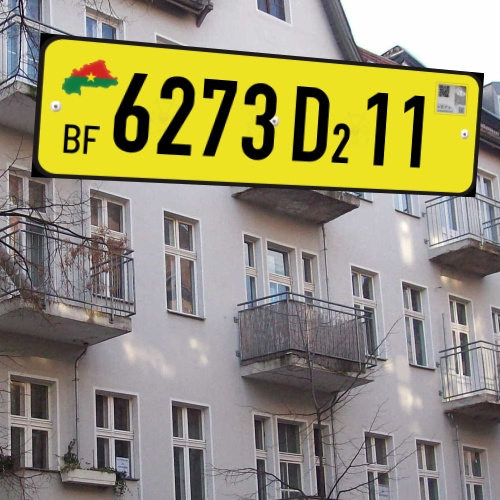plate: (15, 25, 492, 207)
